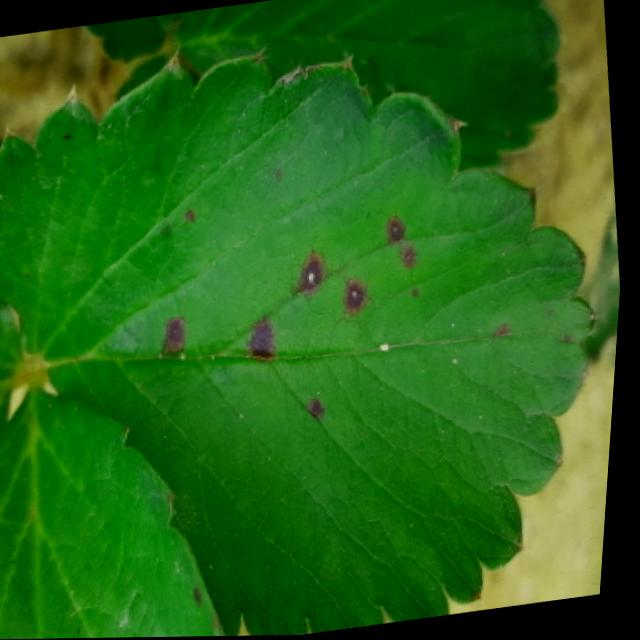Leaf Spot: (0, 51, 602, 637), (0, 388, 237, 640)
